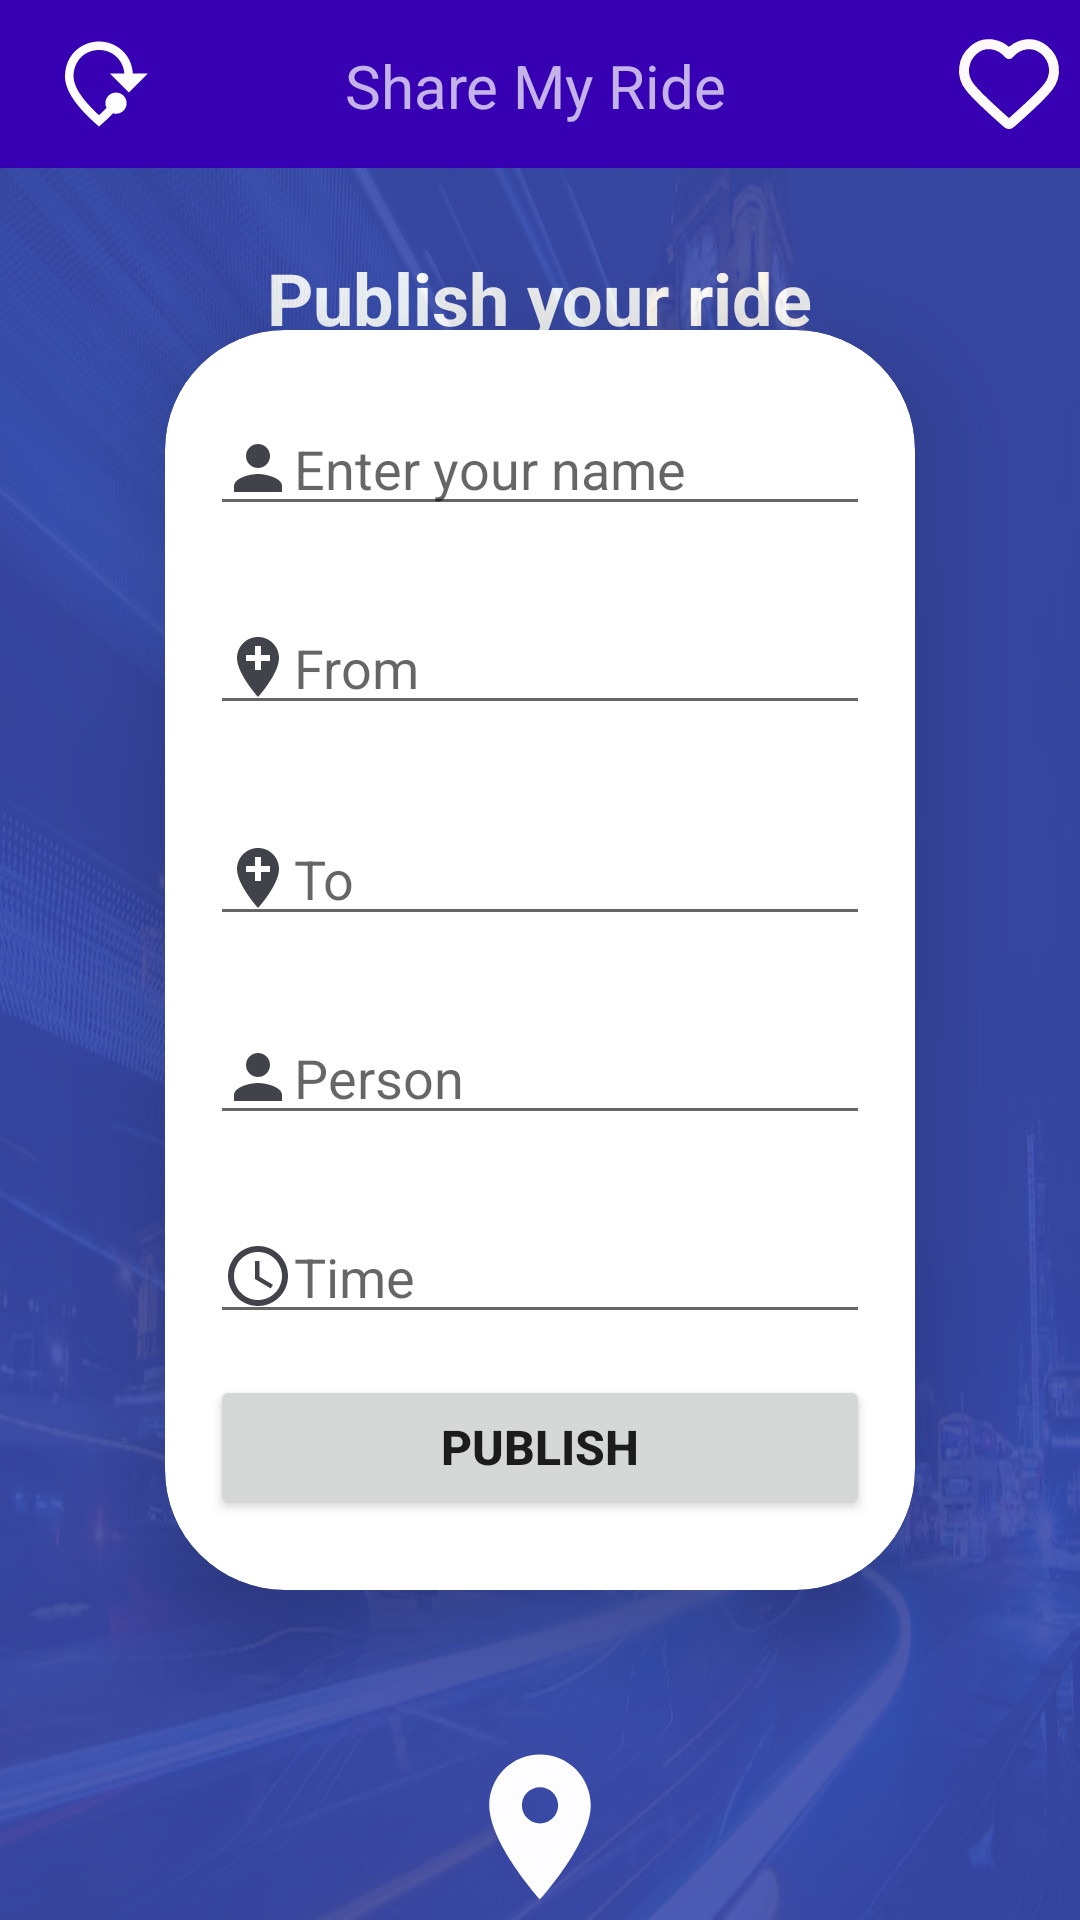

Where to tap for icons on this 1080×1920 app screen, as point (x, y):
heart toolbar: point (1009, 84)
